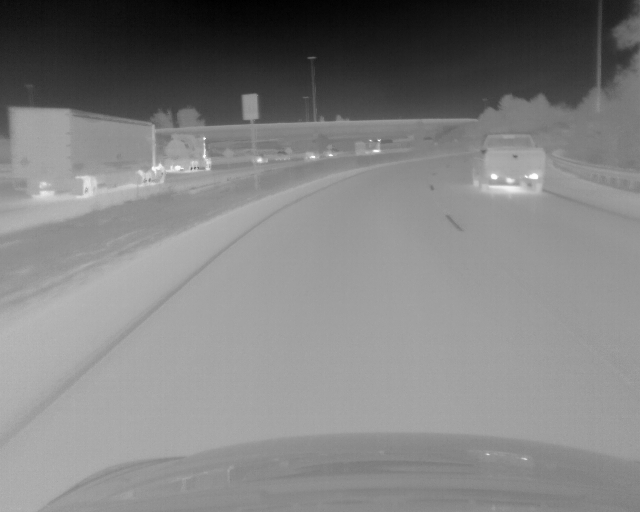car: (8, 106, 165, 199), (472, 133, 545, 195), (166, 133, 212, 172), (254, 154, 268, 163)
